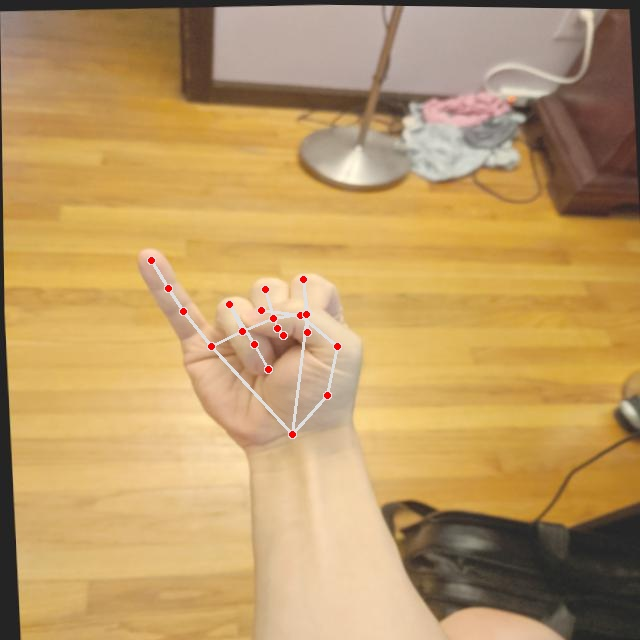I: (128, 236, 375, 460)
